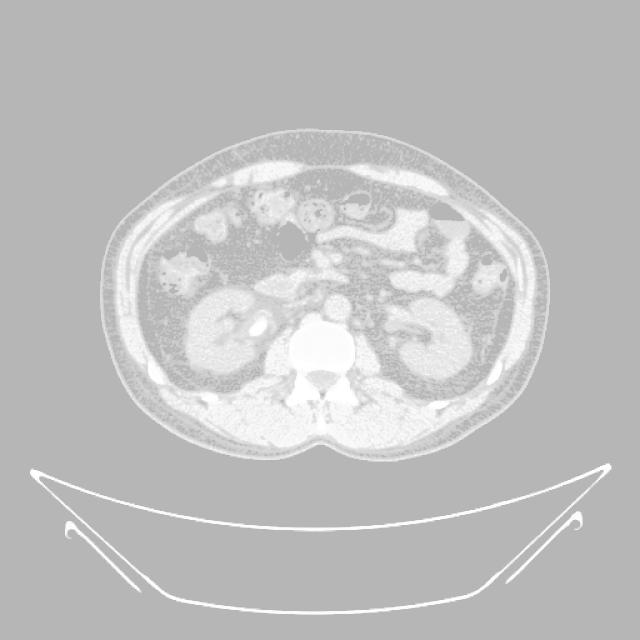STONE: (124, 140, 506, 296)
